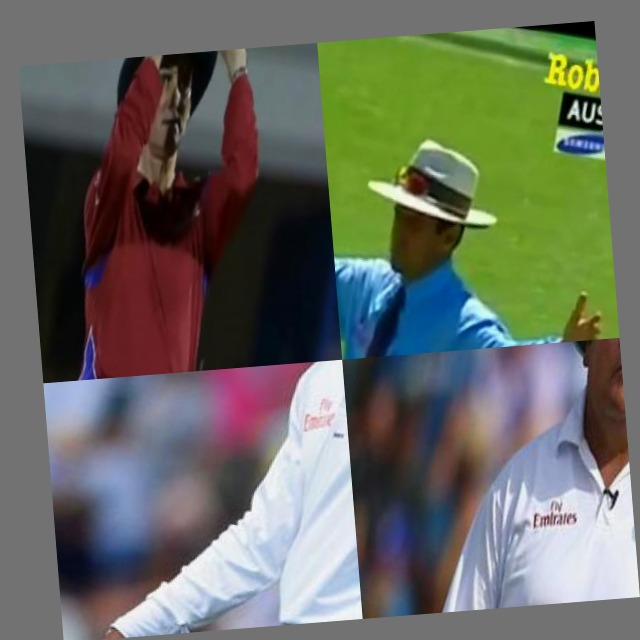No_Action: (43, 360, 363, 640), (361, 338, 640, 617)
Six: (18, 43, 335, 383)
Wide: (320, 58, 619, 360)
